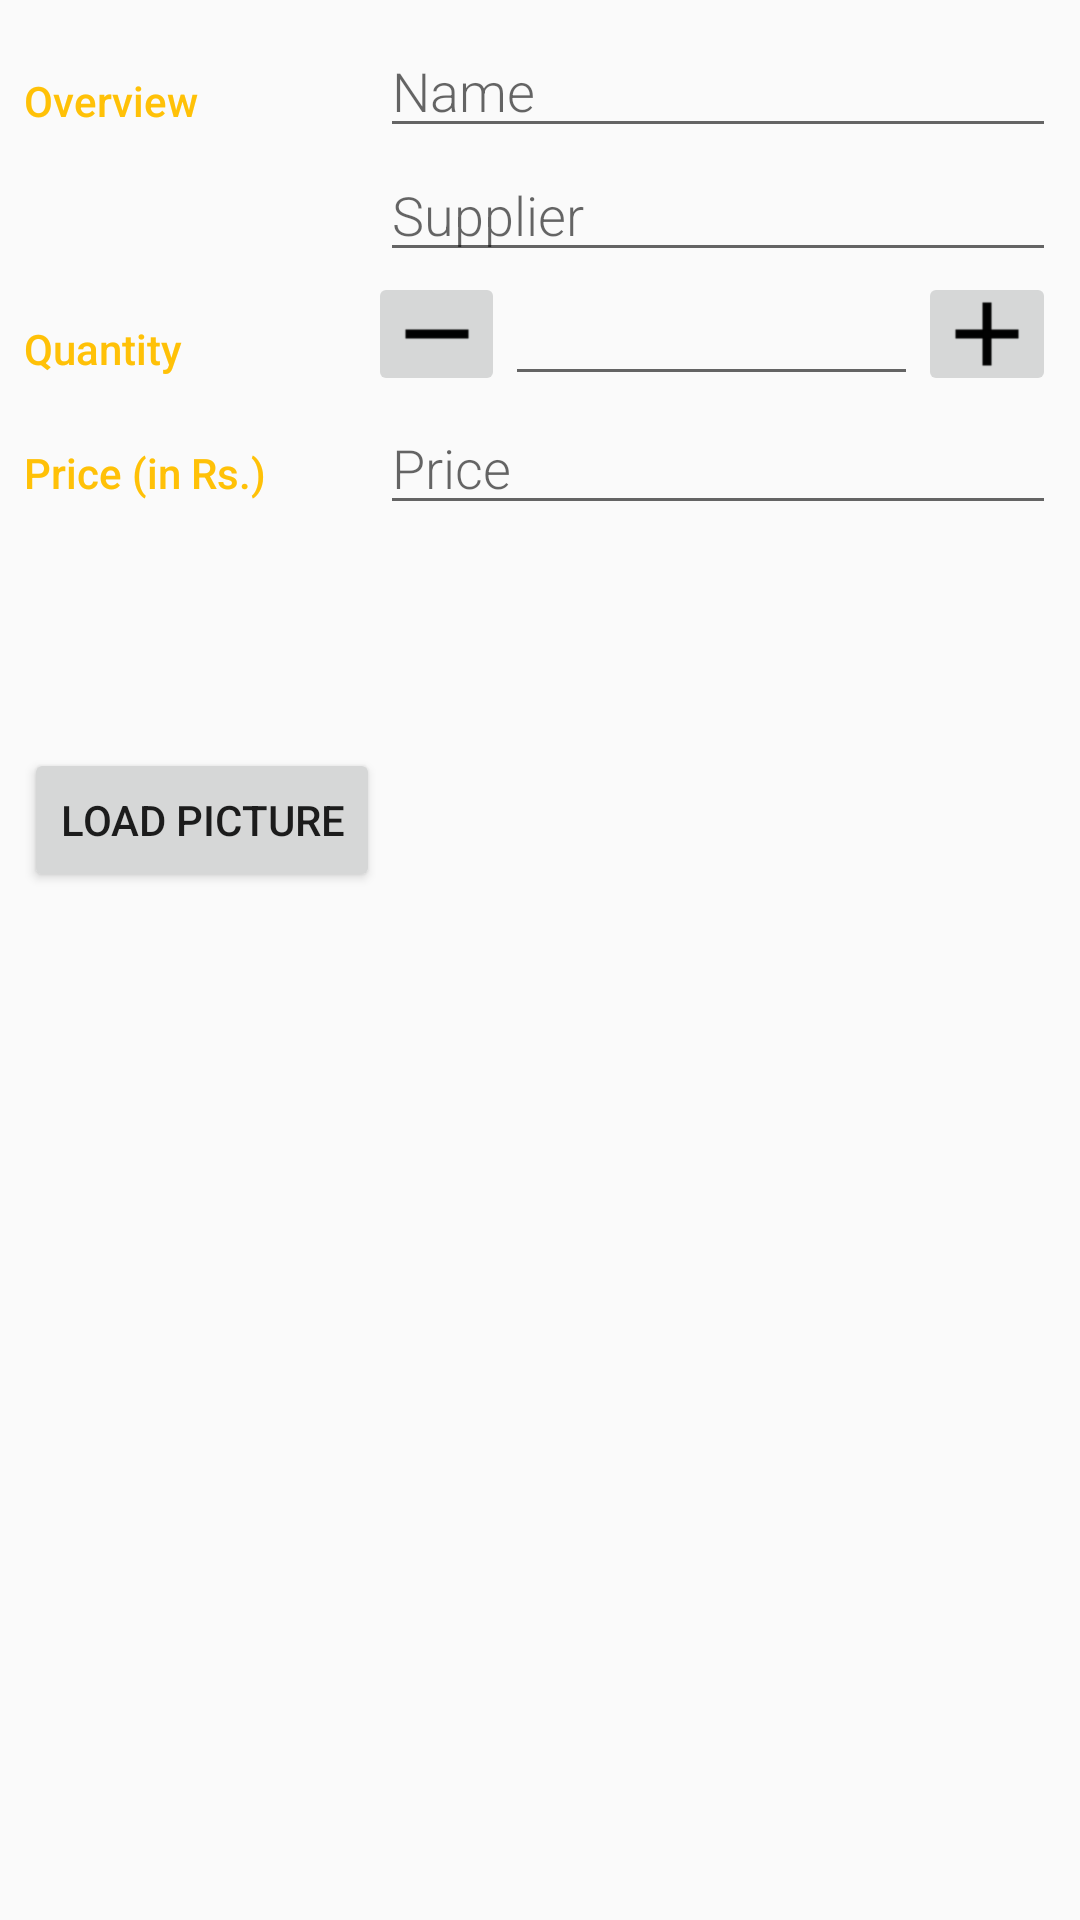

Icons on this 1080w x 1920h Android screen, each with its box as (x1, y1, x2, y2):
add: (930, 290, 1044, 378)
remove: (380, 290, 493, 378)
